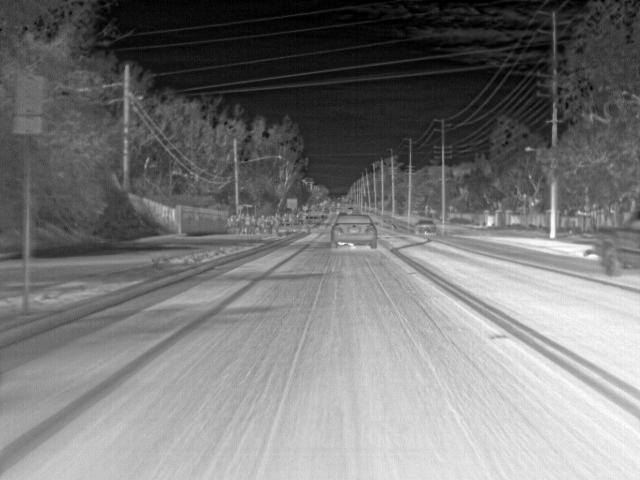car: (588, 210, 640, 278), (329, 214, 379, 249), (415, 220, 437, 236), (348, 207, 357, 214)
person: (245, 212, 253, 232), (259, 213, 266, 232), (237, 216, 243, 232)
